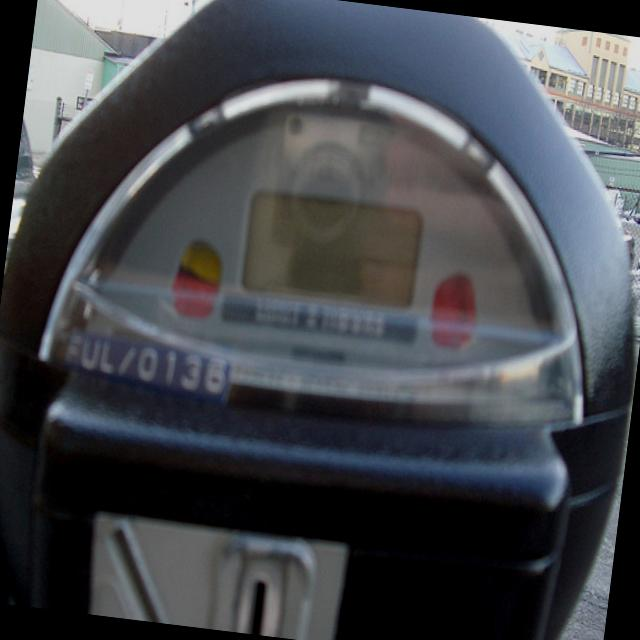Vehicle: (0, 84, 47, 425), (635, 199, 640, 271)
